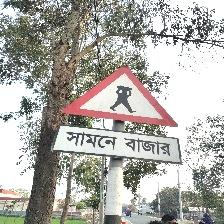Market-in-front: (52, 64, 180, 165)
